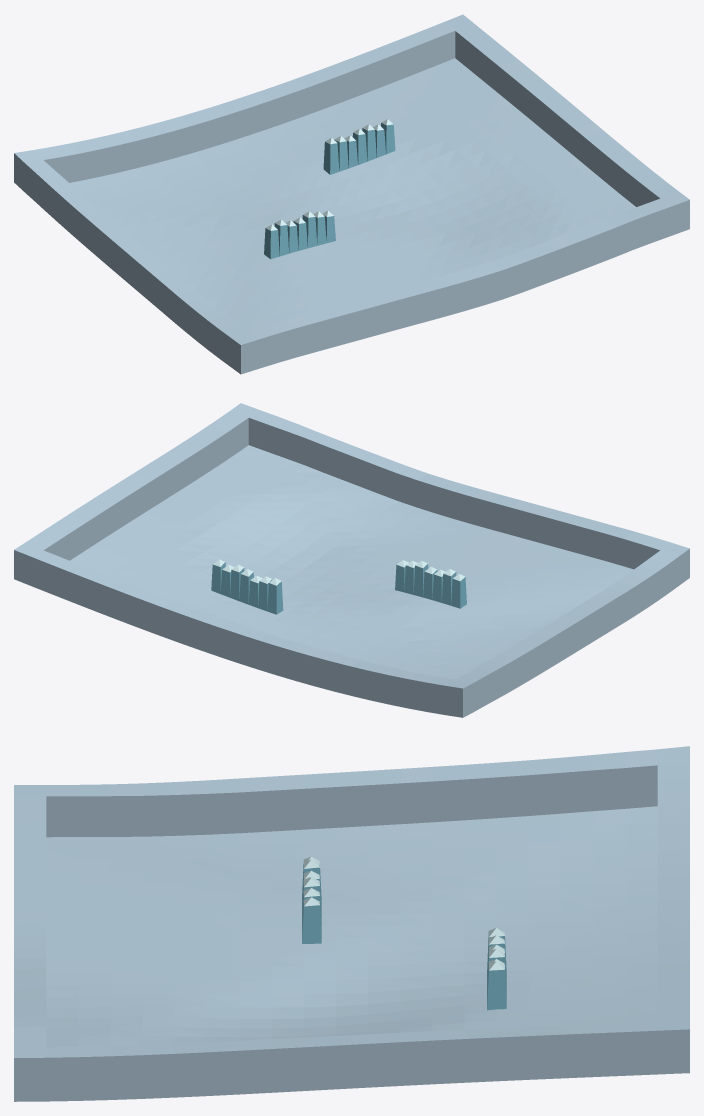
Rendered from ice_courtyard.glb.
The picture shows the model from 3 angles, top to bottom: view 1: azimuth 30°, elevation 25°; view 2: azimuth 150°, elevation 25°; view 3: azimuth 270°, elevation 25°; orthographic projection. The views are drawn at different scales.
Parts seen in each view (by area): view 1: CourtyardSnow, BoundaryBank_3, BoundaryBank_2, BoundaryBank_0, BoundaryBank_1; view 2: CourtyardSnow, BoundaryBank_2, BoundaryBank_3, BoundaryBank_0, BoundaryBank_1, IceChunk_1_0; view 3: CourtyardSnow, BoundaryBank_1, BoundaryBank_0, BoundaryBank_2, BoundaryBank_3, IceChunk_1_6, IceChunk_0_6.
Part boxes in pixels (left/top/right/bottom): CourtyardSnow: left=69, top=58, right=635, bottom=330; BoundaryBank_3: left=249, top=198, right=671, bottom=368; BoundaryBank_2: left=33, top=22, right=455, bottom=182; BoundaryBank_0: left=14, top=150, right=259, bottom=374; BoundaryBank_1: left=445, top=14, right=689, bottom=235; CourtyardSnow: left=70, top=445, right=633, bottom=679; BoundaryBank_2: left=32, top=550, right=454, bottom=714; BoundaryBank_3: left=248, top=410, right=670, bottom=569; BoundaryBank_0: left=444, top=542, right=689, bottom=717; BoundaryBank_1: left=14, top=403, right=258, bottom=586; IceChunk_1_0: left=267, top=578, right=283, bottom=614; CourtyardSnow: left=46, top=806, right=657, bottom=1047; BoundaryBank_1: left=14, top=1020, right=689, bottom=1101; BoundaryBank_0: left=14, top=746, right=689, bottom=837; BoundaryBank_2: left=657, top=762, right=689, bottom=1021; BoundaryBank_3: left=14, top=796, right=46, bottom=1047; IceChunk_1_6: left=487, top=961, right=506, bottom=1010; IceChunk_0_6: left=302, top=897, right=321, bottom=943.
Bounding box in the file's own units: 48 × 8.63 × 42.
